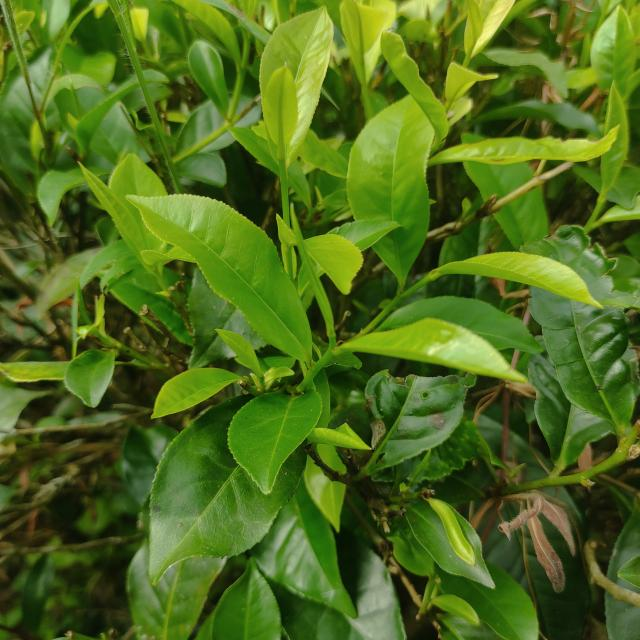unopened_leaf: (287, 195, 339, 352)
